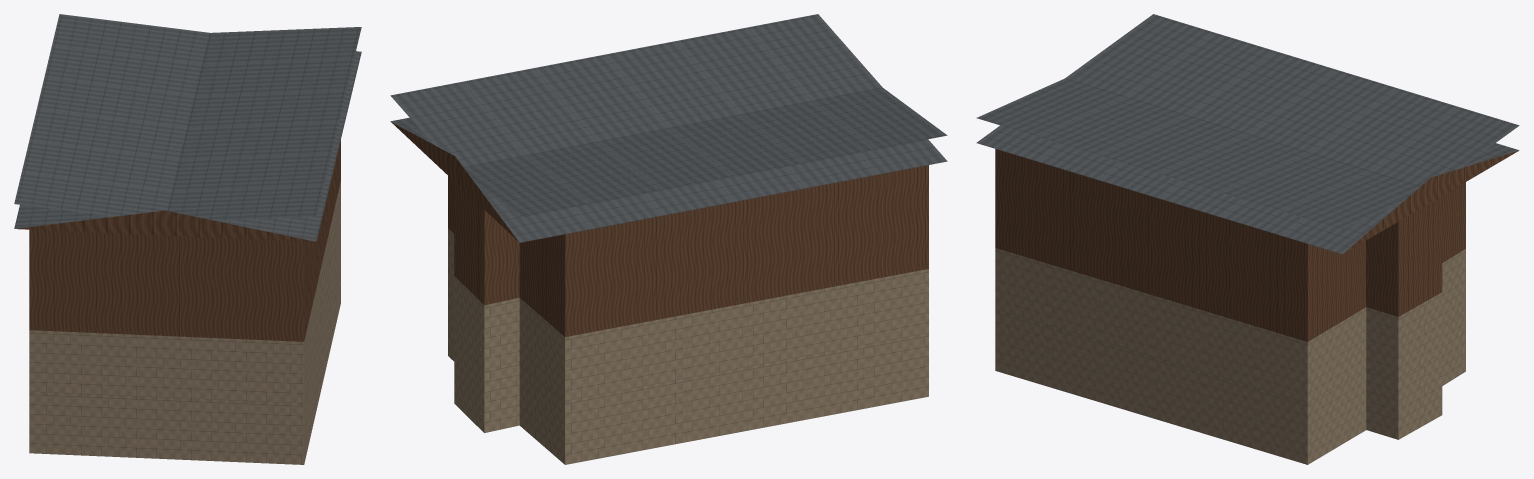
The model's file is bld_c9_42_510.gltf.
3 views of the same model, side by side, from view 1: azimuth 30°, elevation 25°; view 2: azimuth 150°, elevation 25°; view 3: azimuth 270°, elevation 25° (orthographic). The views are drawn at different scales.
Parts seen in each view (by area): view 1: bld_c9_42_510; view 2: bld_c9_42_510; view 3: bld_c9_42_510.
Part boxes in pixels (box(x1,y1,x2,y2)): bld_c9_42_510: box(14, 14, 361, 464); bld_c9_42_510: box(390, 14, 947, 464); bld_c9_42_510: box(976, 14, 1519, 464).
Bounding box in the file's own units: 18.56 × 10.2 × 19.78.
4 materials, 4 textured.
